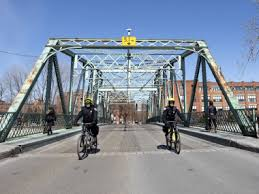mask: (83, 97, 93, 108), (166, 95, 175, 107)
